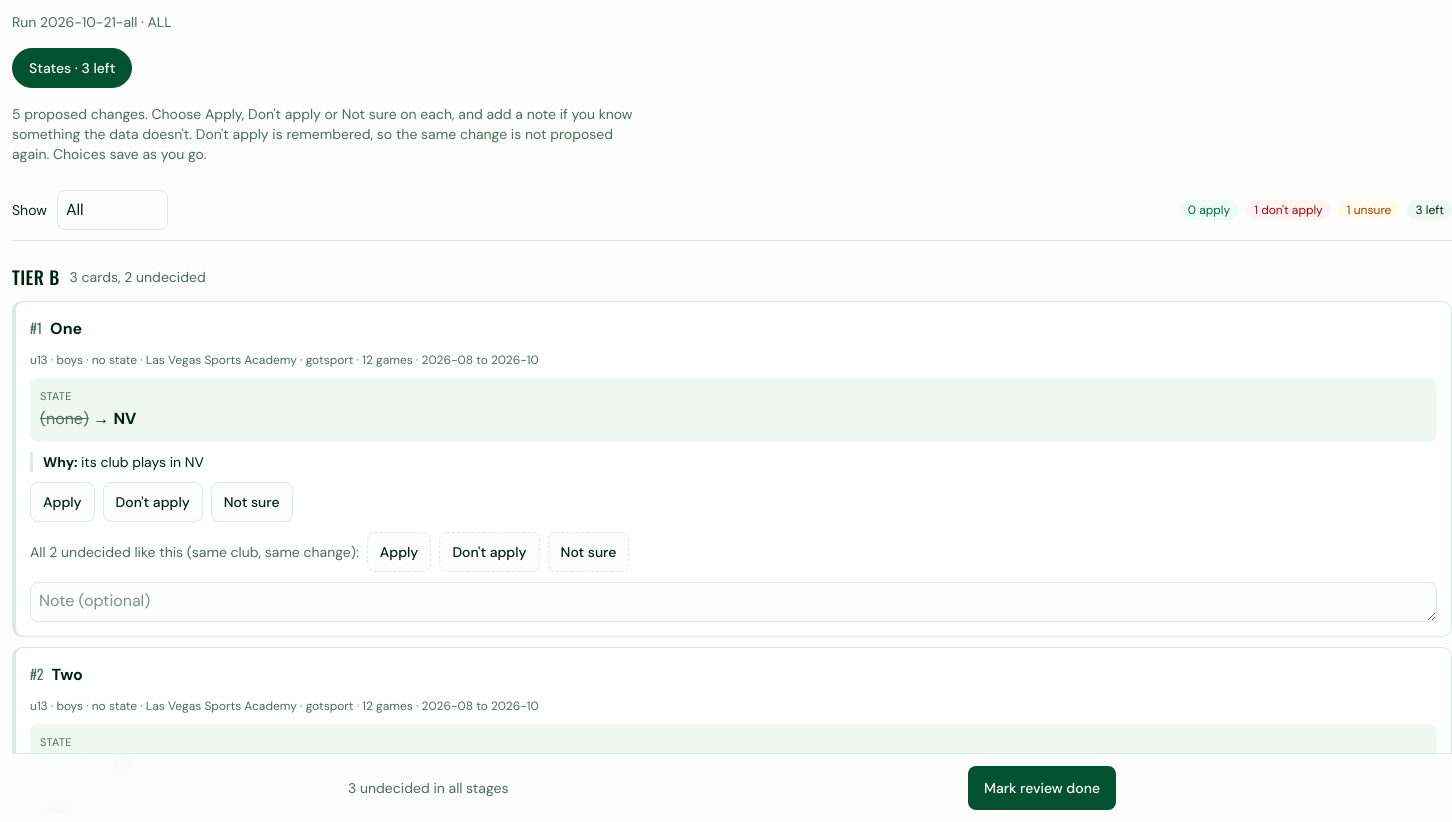
the team cleanup review page › reloads the page when a save finds it built again
Click the 1st button "Apply". click: {"x": 62, "y": 502}
box: [30,482,95,522]
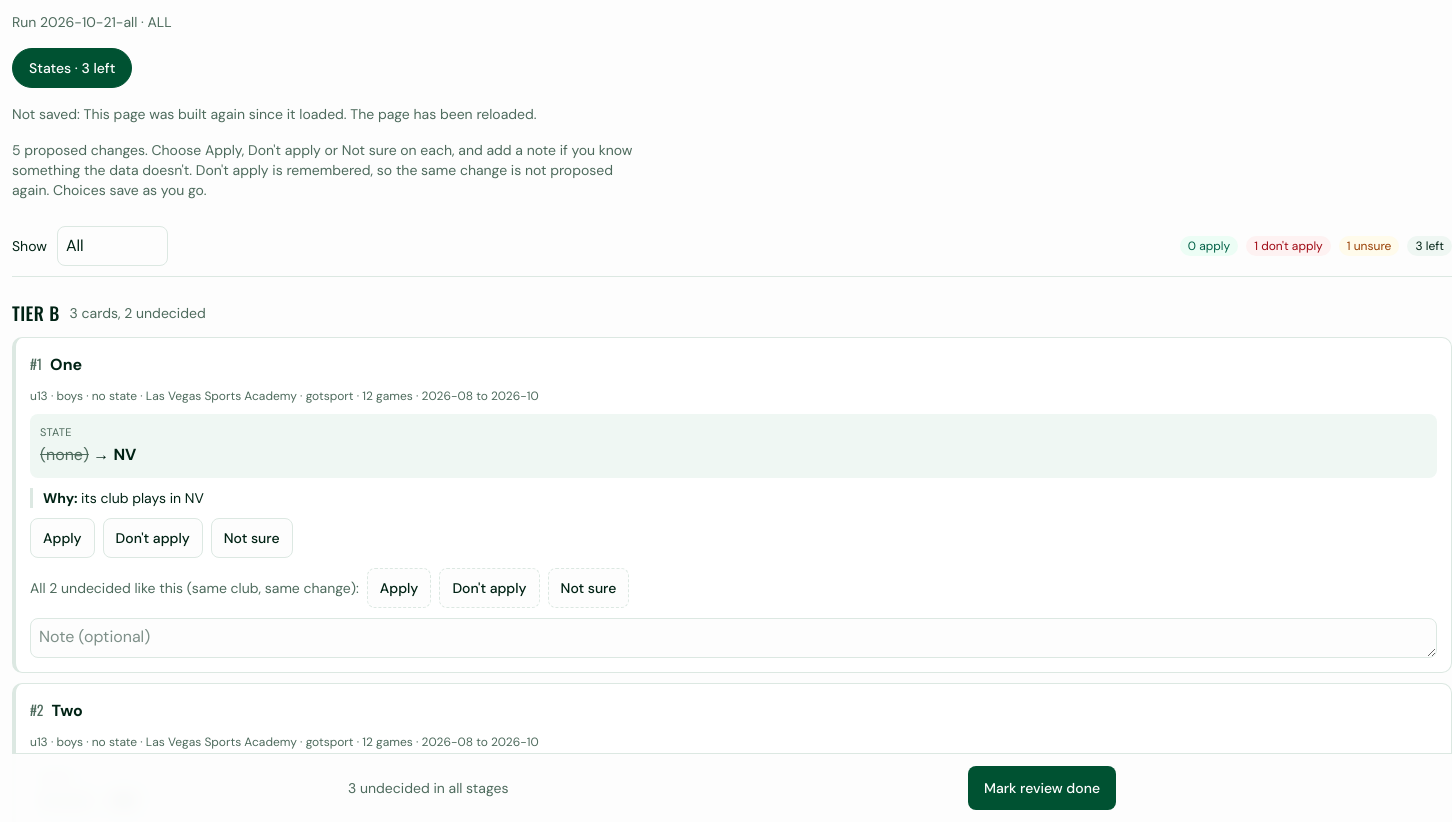
Result: the text "Not saved: This page was built again since it loaded. The page has been reloaded." is shown at [12,105,537,123]
